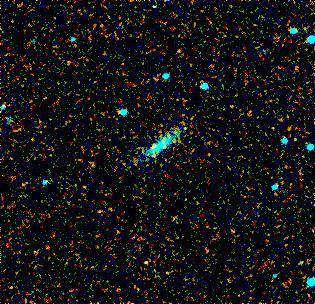star: (126, 249, 156, 279)
